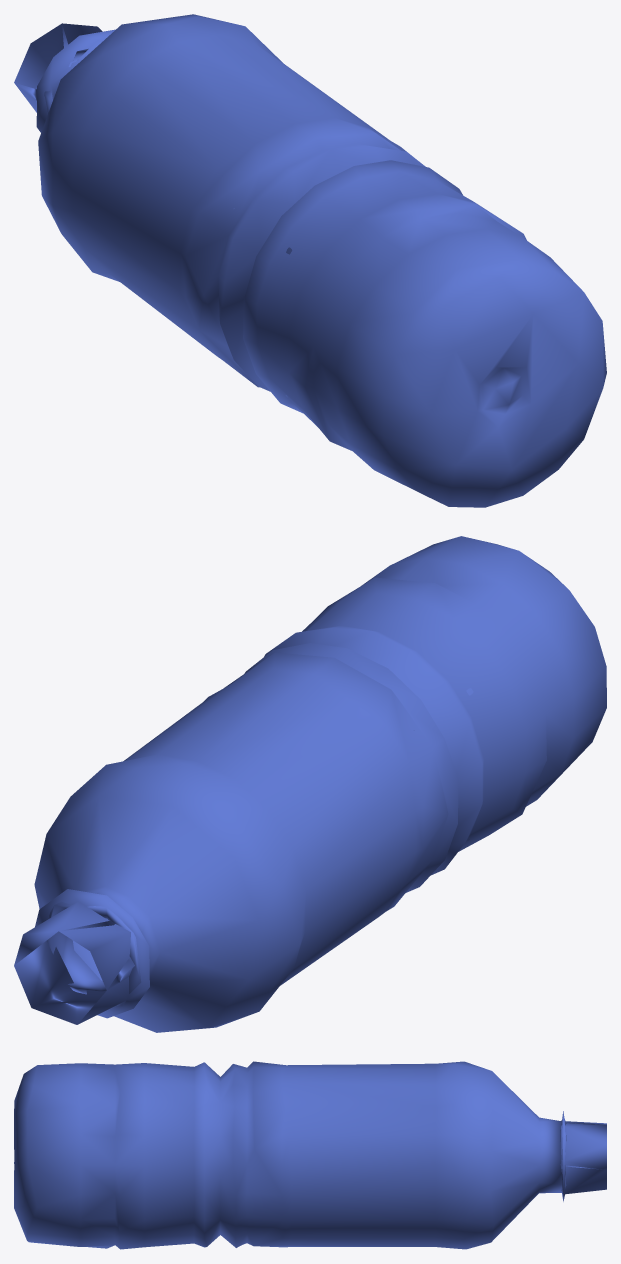
Rendered from COL_Obt_8_Bottle_Coll.dae.
3 views of the same model, one above another, from view 1: azimuth 30°, elevation 25°; view 2: azimuth 150°, elevation 25°; view 3: azimuth 270°, elevation 25° (orthographic). The views are drawn at different scales.
Parts seen in each view (by area): view 1: COL_Obt_8_Bottle_Coll; view 2: COL_Obt_8_Bottle_Coll; view 3: COL_Obt_8_Bottle_Coll.
Boxes of the visible parts, box(x1,y1,x2,y2) form: COL_Obt_8_Bottle_Coll: box(14, 14, 606, 507); COL_Obt_8_Bottle_Coll: box(14, 536, 606, 1032); COL_Obt_8_Bottle_Coll: box(14, 1061, 606, 1249).
Bounding box in the file's own units: 0.6258 × 1.95 × 0.6364.
